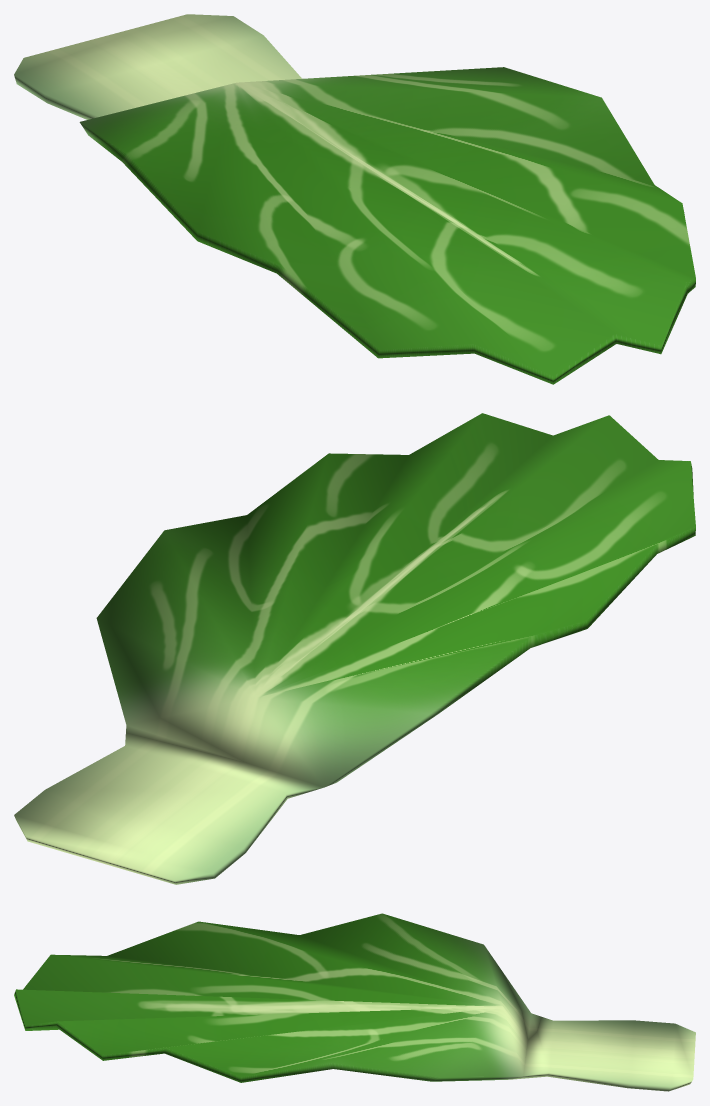
Rendered from bokchoy_lp.fbx.
3 views of the same model, one above another, from view 1: azimuth 30°, elevation 25°; view 2: azimuth 150°, elevation 25°; view 3: azimuth 270°, elevation 25° (orthographic). The views are drawn at different scales.
Parts seen in each view (by area): view 1: Circle; view 2: Circle; view 3: Circle.
Boxes of the visible parts, x1,y1,x2,y2 form: Circle: (14,14,695,384); Circle: (14,413,695,884); Circle: (14,913,695,1091).
Bounding box in the file's own units: 175 × 47.61 × 368.
